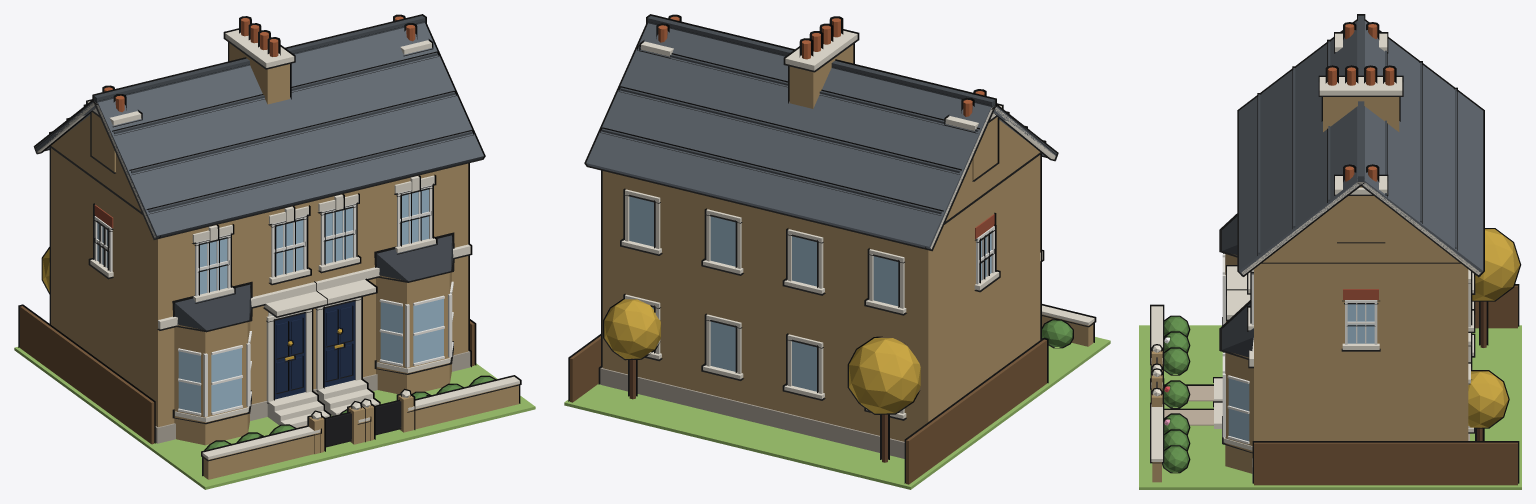
The model's file is MustakilEv_londra_kulube_9.fbx.
The picture shows the model from 3 angles, left to right: view 1: azimuth 30°, elevation 25°; view 2: azimuth 150°, elevation 25°; view 3: azimuth 270°, elevation 25°; orthographic projection. The views are drawn at different scales.
Visible parts, largest first — view 1: MustakilEv_londra_kulube_9; view 2: MustakilEv_londra_kulube_9; view 3: MustakilEv_londra_kulube_9.
Part boxes in pixels (x1=…): MustakilEv_londra_kulube_9: x1=14, y1=14, x2=535, y2=489; MustakilEv_londra_kulube_9: x1=564, y1=14, x2=1110, y2=489; MustakilEv_londra_kulube_9: x1=1139, y1=14, x2=1521, y2=489.
Size of the model in its own units: 10 by 9.82 by 10.
